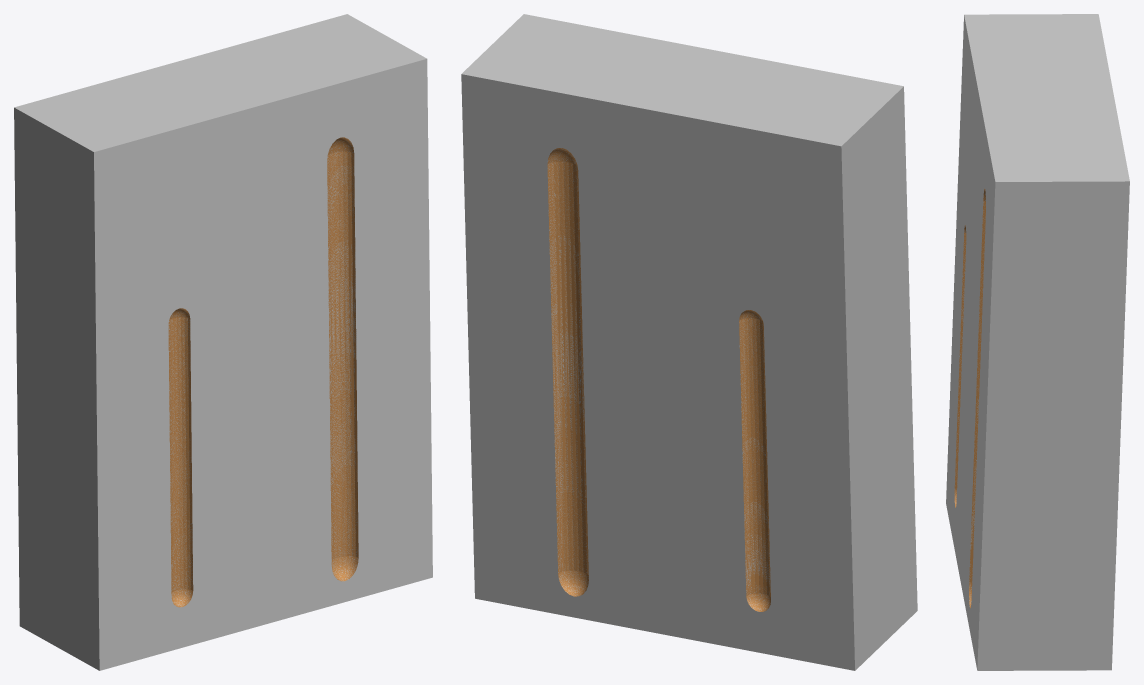
File: original-3.obj
3 renders of one model, left to right at view 1: azimuth 30°, elevation 25°; view 2: azimuth 150°, elevation 25°; view 3: azimuth 270°, elevation 25°, orthographic. The views are drawn at different scales.
Parts seen in each view (by area): view 1: Group3/mesh6/mesh6-geometry#mesh6-geometry; view 2: Group3/mesh6/mesh6-geometry#mesh6-geometry; view 3: Group3/mesh6/mesh6-geometry#mesh6-geometry.
Boxes of the visible parts, <box> form: Group3/mesh6/mesh6-geometry#mesh6-geometry: <box>14,14,432,670</box>; Group3/mesh6/mesh6-geometry#mesh6-geometry: <box>461,14,917,670</box>; Group3/mesh6/mesh6-geometry#mesh6-geometry: <box>946,14,1129,670</box>.
Size of the model in its own units: 0.1279 by 0.1746 by 0.0584.
